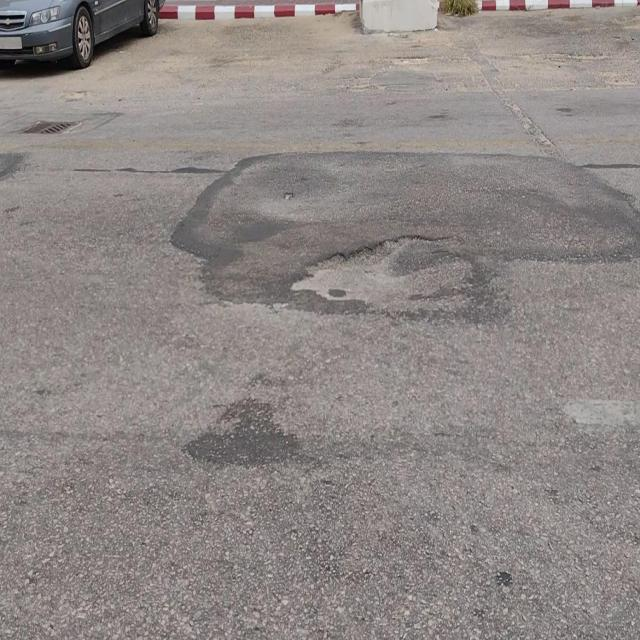Potholes: (288, 235, 475, 315)
